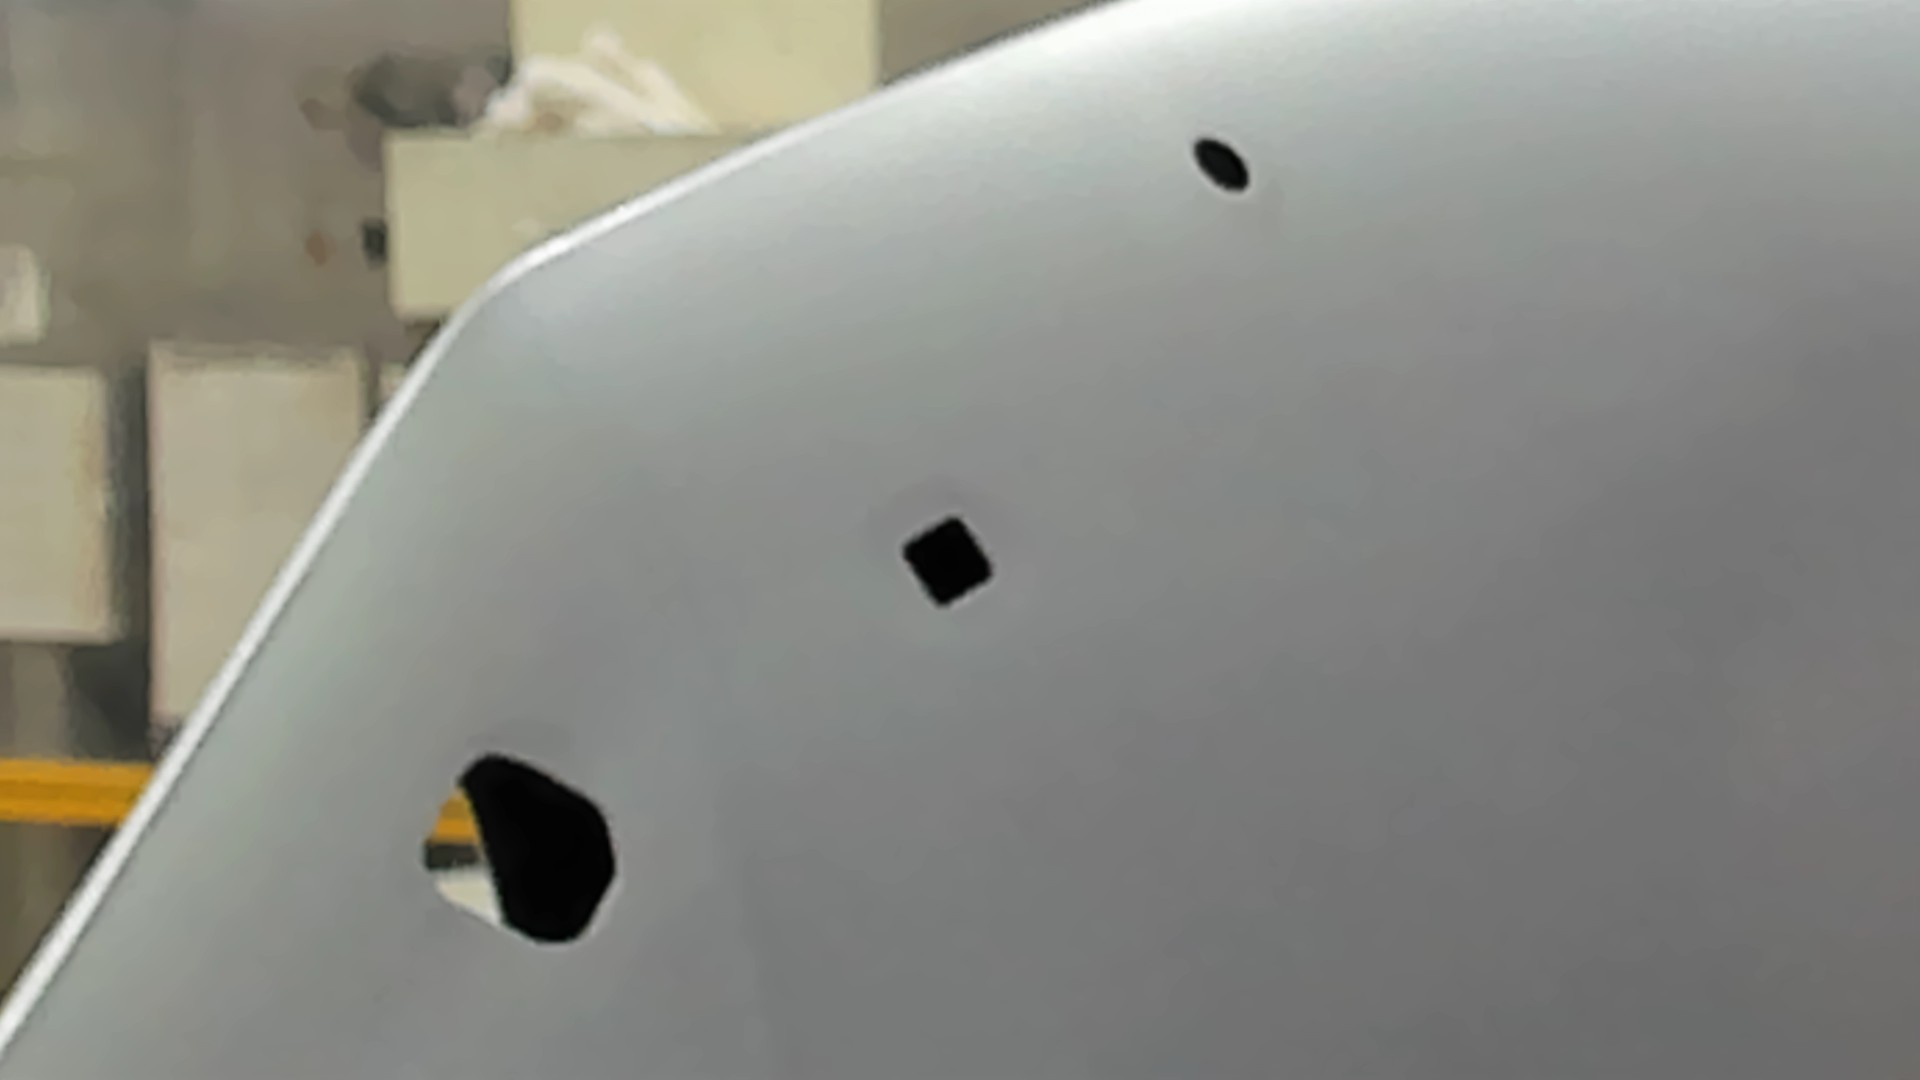capo: (1001, 202, 1920, 1080)
chico: (1187, 132, 1255, 196)
grande: (411, 741, 629, 961)
mediano: (894, 506, 1004, 617)
